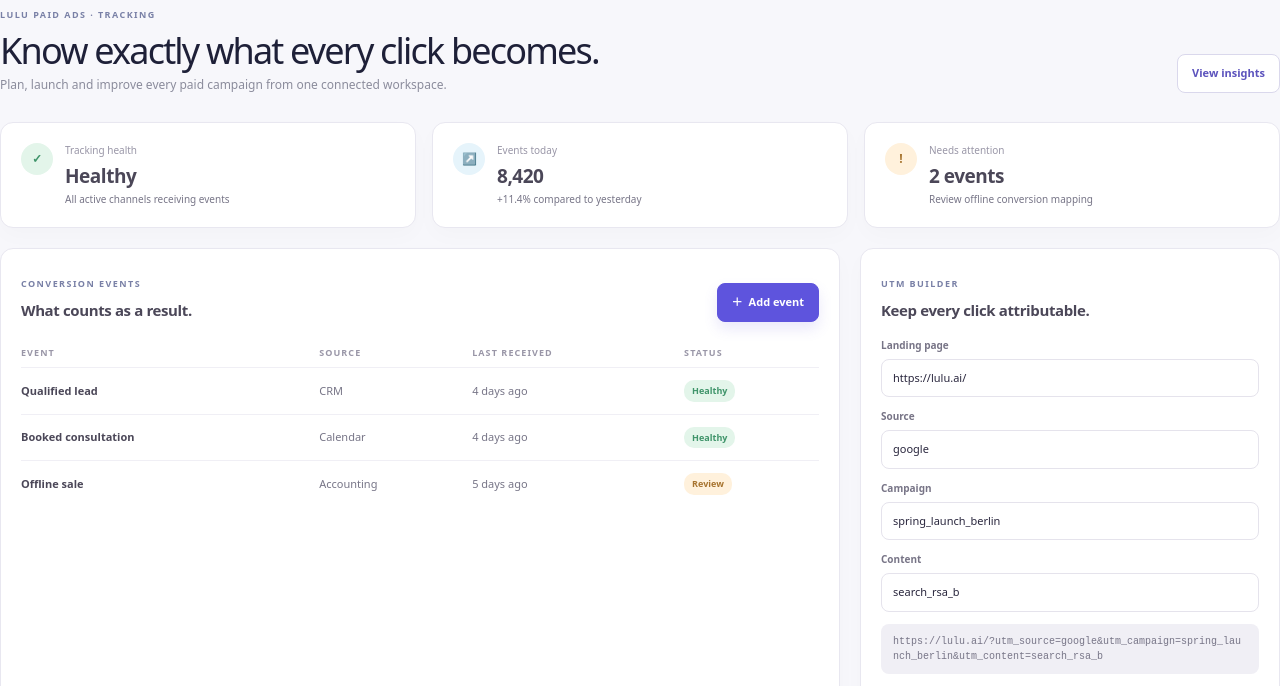
Test: Tracking › shows tracking health and the events, adds an event, and builds a tracking link
The image size is (1280, 686).
Expected: the text "8,420" is shown, [497,163,544,189]
Expected: the text "+11.4% compared to yesterday" is shown, [497,192,642,207]
Click the button "＋ Add event" at point(768, 302), box [717,283,819,322]
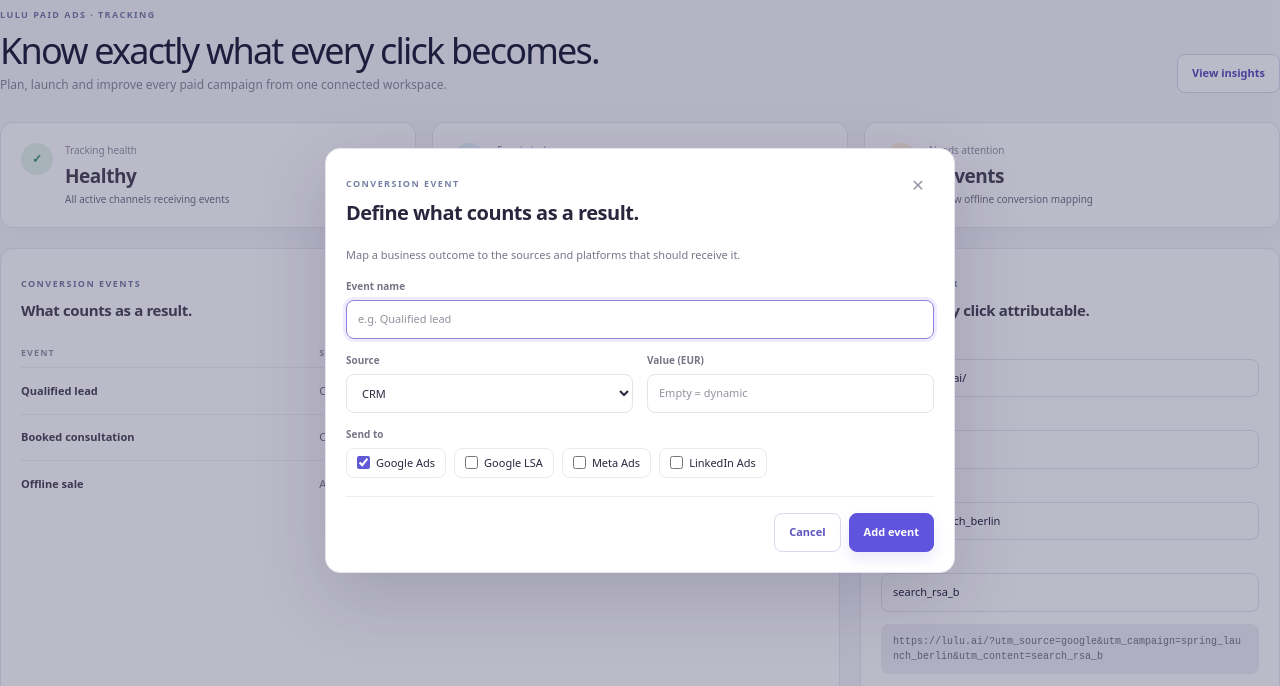
Type "Signed contract" into the field labelled "Event name" at point(640, 319), box [346,300,934,338]
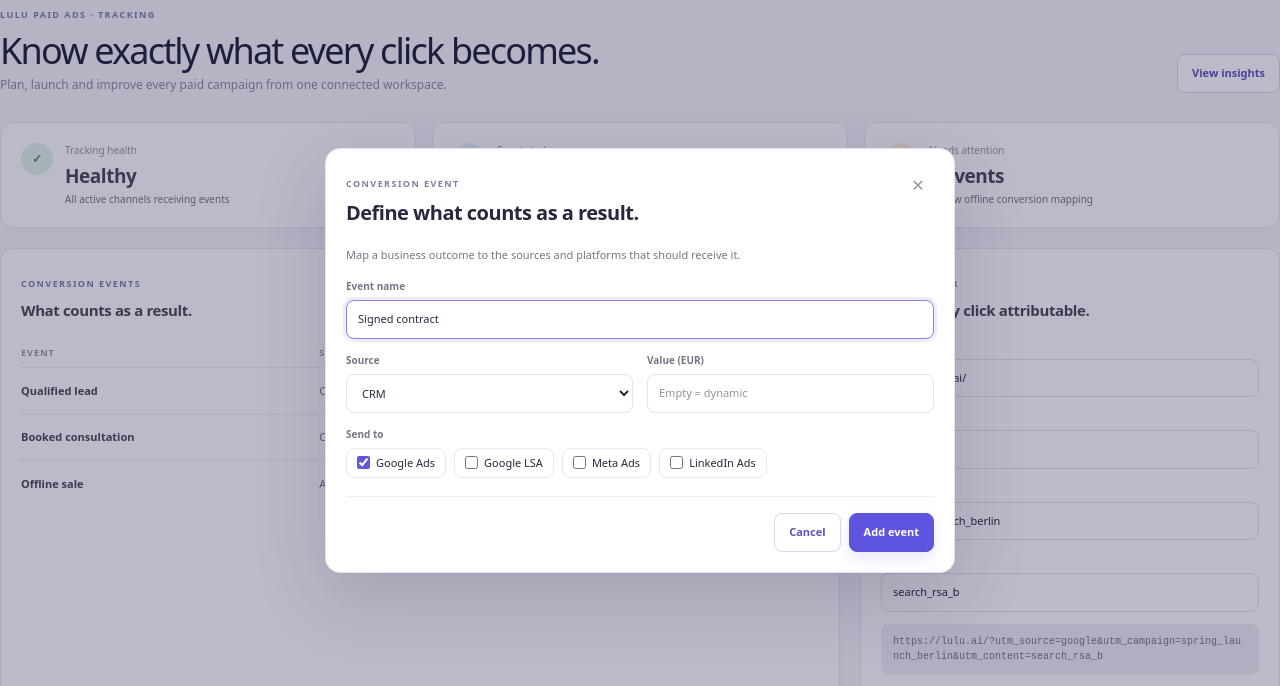
Type "900" into the field labelled "Value (EUR)" at point(790, 393), box [647,374,934,413]
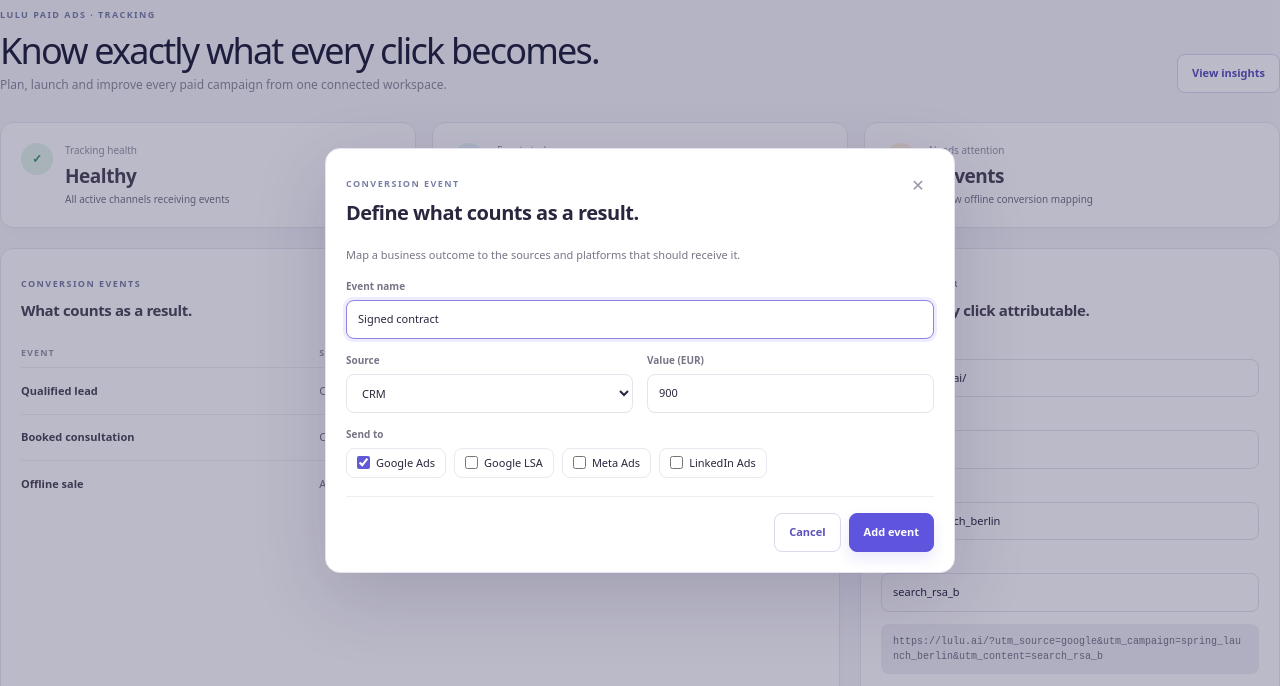
Click the button "Add event" at point(891, 532), box [849,513,934,552]
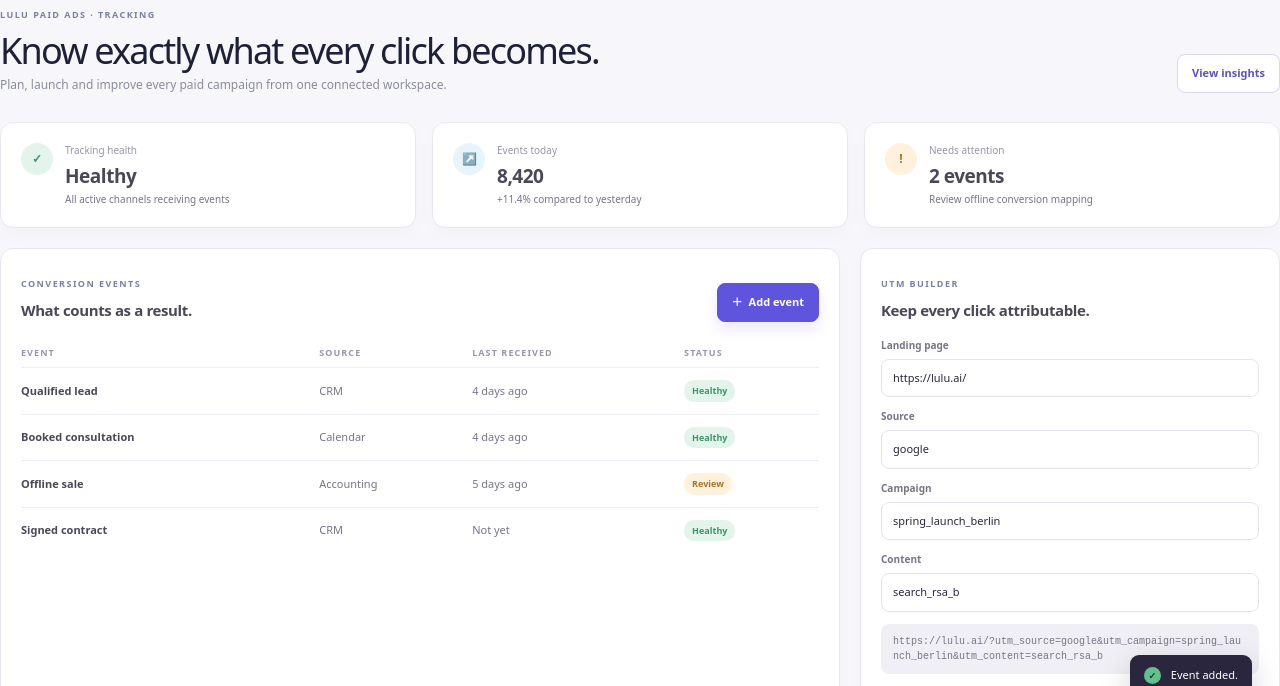
Now the text "Signed contract" is shown, box [21,507,319,553]
Replace the text in the field labelled "Campaign" with "Autumn Sale Berlin" at point(1070, 521), box [881,502,1259,540]
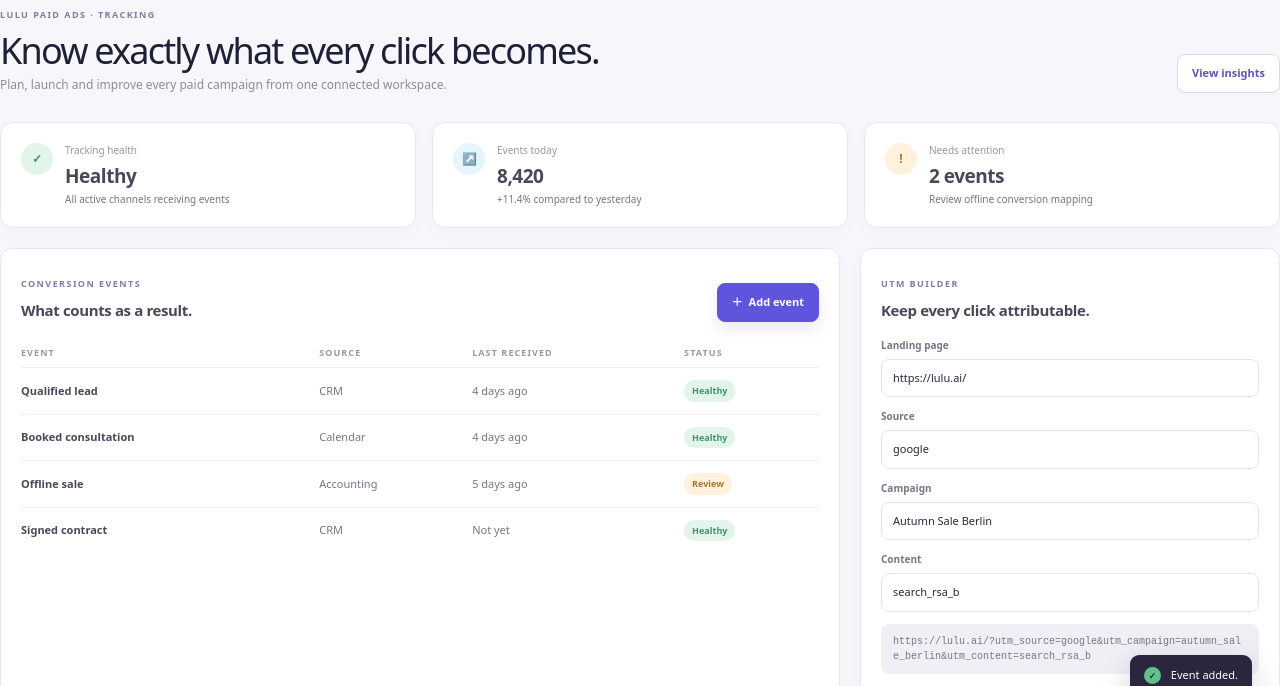
Now the text named "Tracking link" shows "https://lulu.ai/?utm_source=google&utm_campaign=autumn_sale_berlin&utm_content=search_rsa_b", box [893,636,1241,662]
